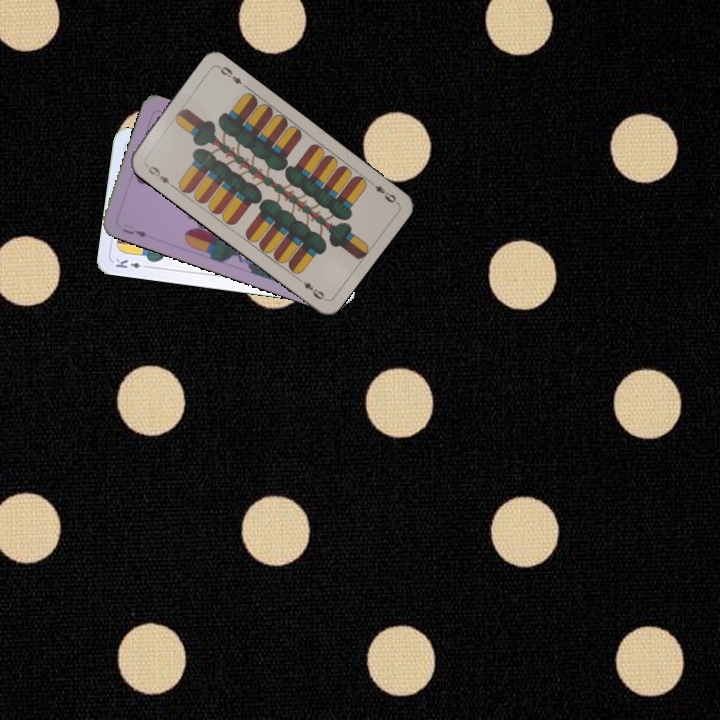E9: (141, 159, 176, 189), (365, 176, 399, 206)
EK: (111, 254, 152, 271)
EU: (118, 220, 150, 240)
